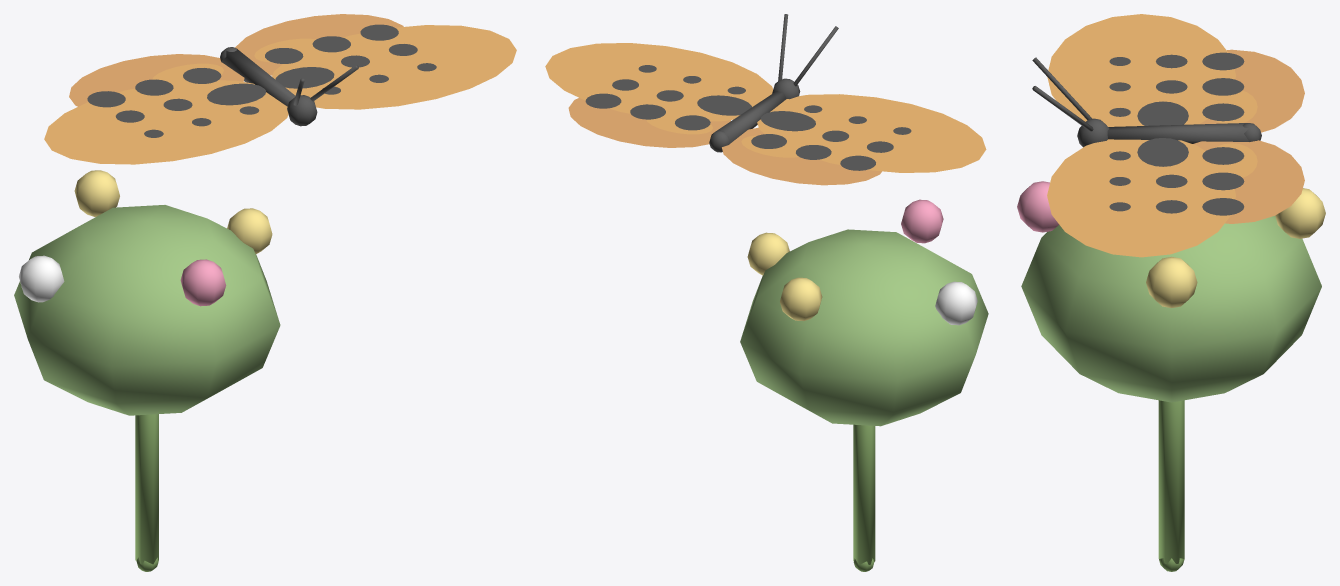
Rendered from common-tiger.glb.
3 views of the same model, side by side, from view 1: azimuth 30°, elevation 25°; view 2: azimuth 150°, elevation 25°; view 3: azimuth 270°, elevation 25° (orthographic). The views are drawn at different scales.
Visible parts, largest first — view 1: e, wingdisc, wingdisc.013, e.007; view 2: e, wingdisc, wingdisc.013, e.007; view 3: e, wingdisc.013, wingdisc, e.007.
Boxes of the visible parts, x1=… form: e: x1=14, y1=170, x2=280, y2=571; wingdisc: x1=44, y1=54, x2=288, y2=164; wingdisc.013: x1=235, y1=14, x2=516, y2=109; e.007: x1=220, y1=47, x2=358, y2=126; e: x1=740, y1=199, x2=988, y2=571; wingdisc: x1=722, y1=94, x2=986, y2=185; wingdisc.013: x1=545, y1=43, x2=773, y2=147; e.007: x1=709, y1=14, x2=838, y2=152; e: x1=1017, y1=181, x2=1325, y2=571; wingdisc.013: x1=1047, y1=138, x2=1304, y2=257; wingdisc: x1=1047, y1=14, x2=1304, y2=132; e.007: x1=1032, y1=57, x2=1261, y2=147.
Size of the model in its own units: 1.38 by 1.44 by 0.7187.
